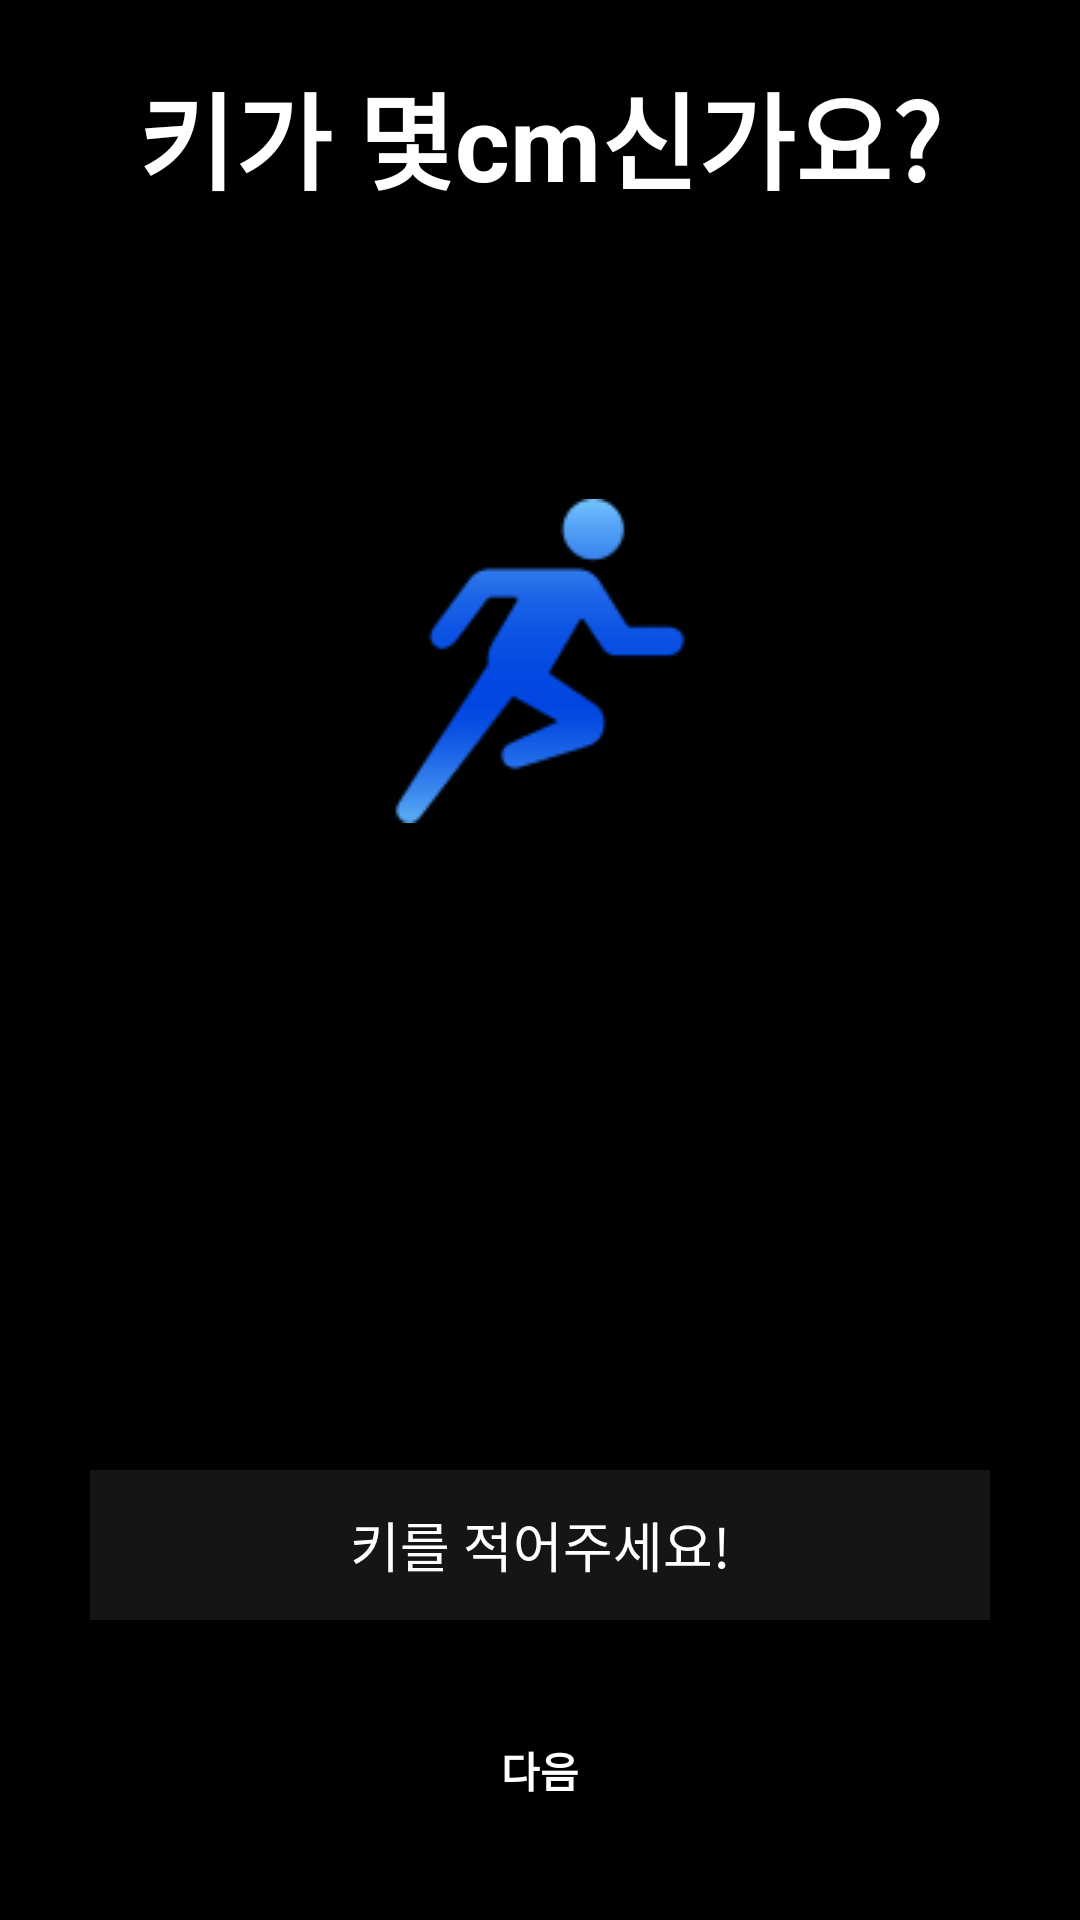

Where to tap for icons on this 1080x1920 app screen, as point (x, y):
This is an Running Man icon: point (540, 661)
